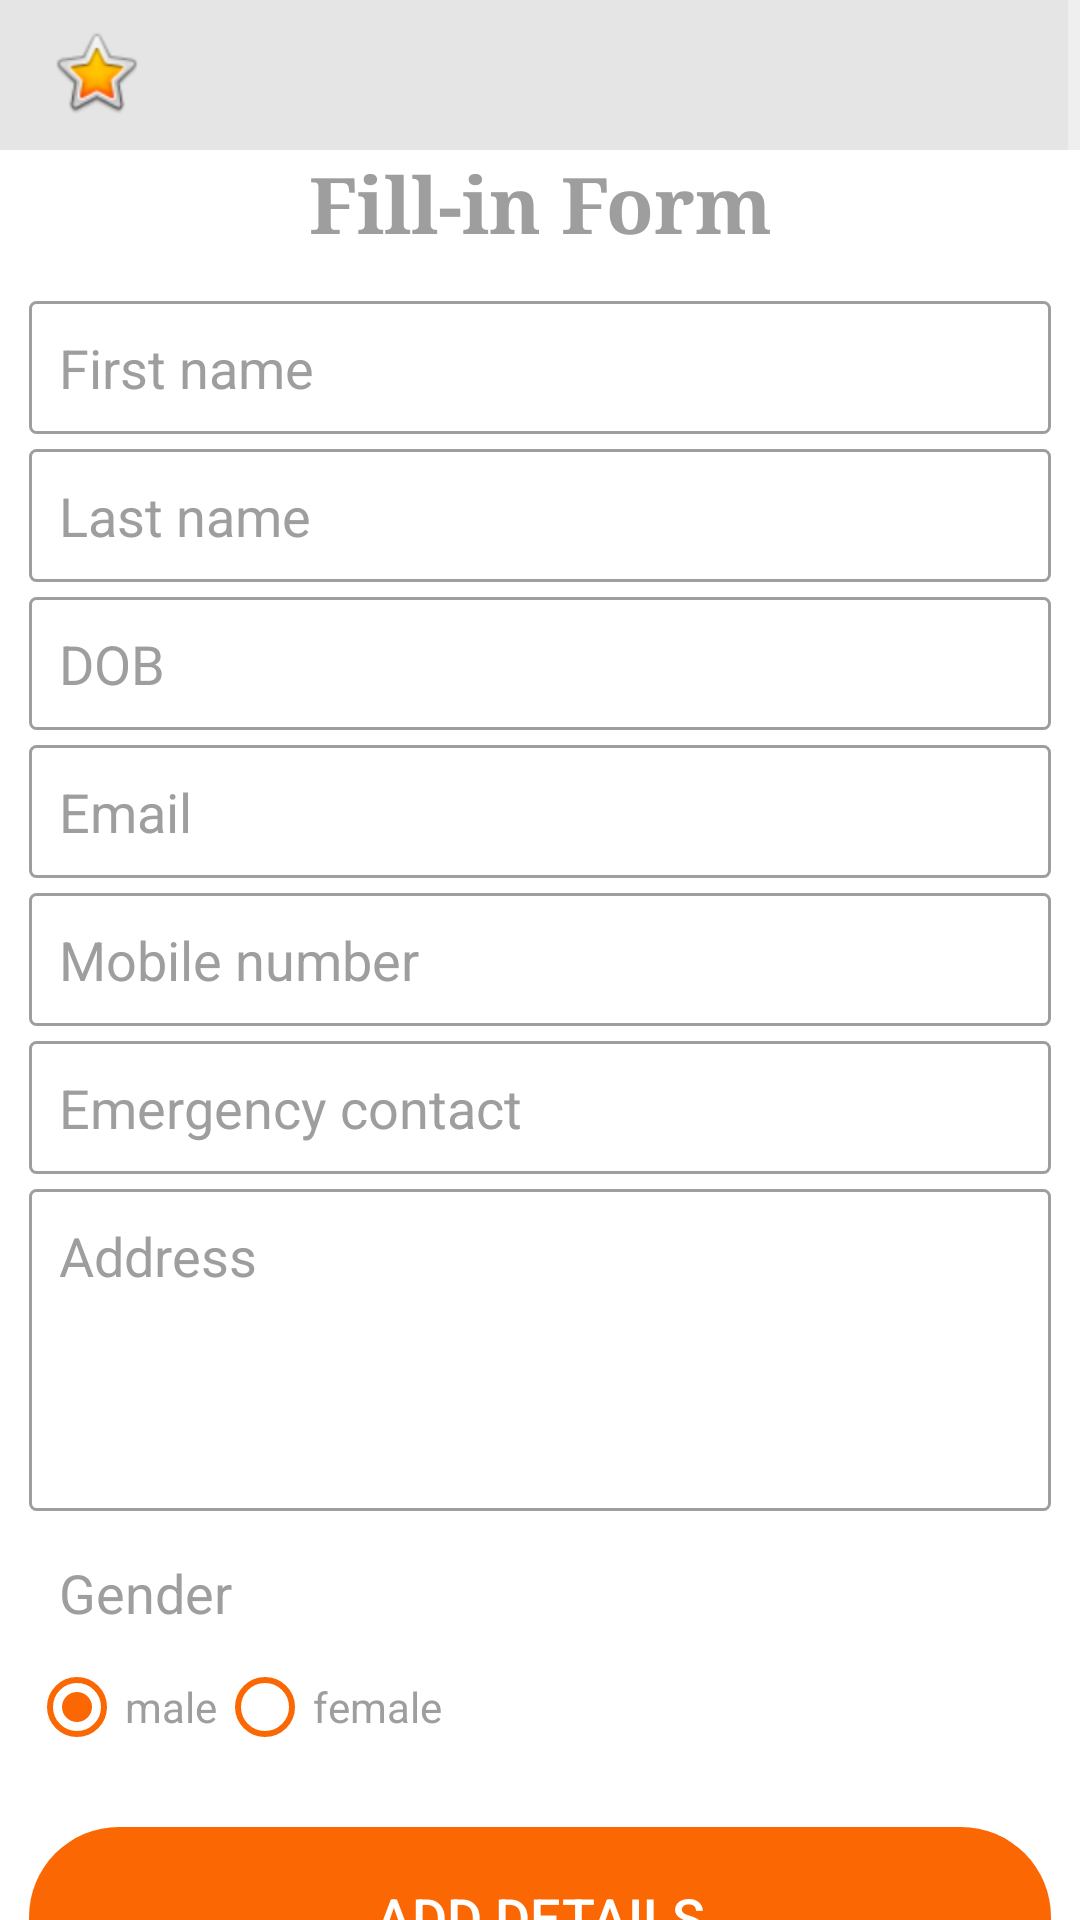

Named icons in this screenshot (1080px x 1920px) and their centers, point (x, y):
star on: point (97, 73)
